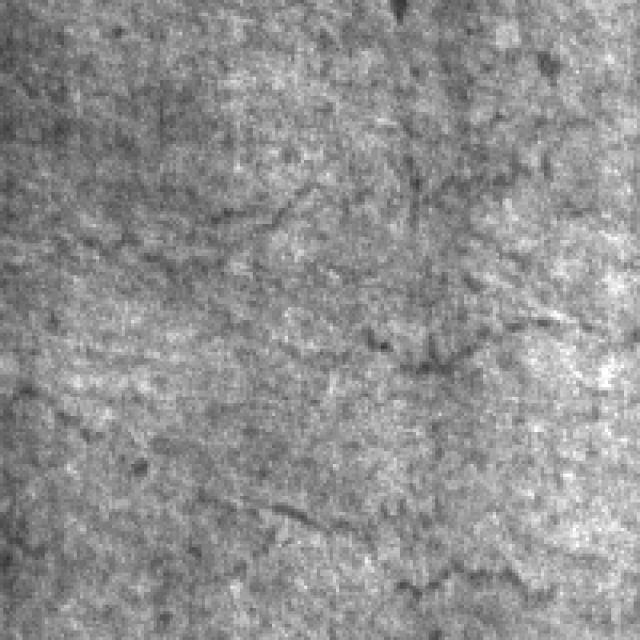crazing: (125, 150, 640, 368), (250, 426, 570, 592)
